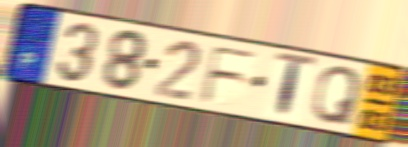2: (153, 38, 204, 104)
3: (53, 20, 100, 86)
8: (99, 28, 148, 93)
F: (197, 44, 261, 106)
Q: (310, 64, 365, 128)
T: (273, 50, 319, 123)
